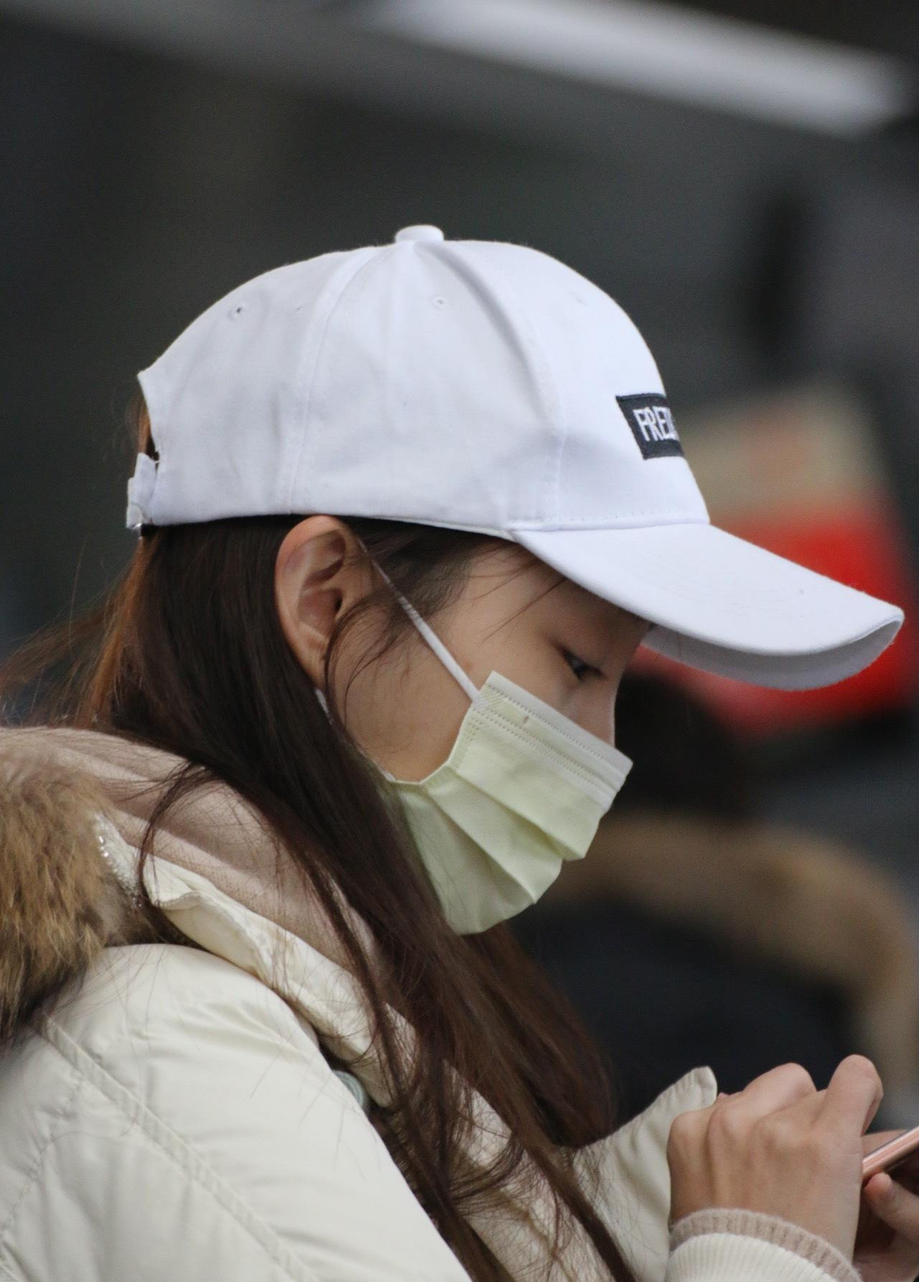OK: (259, 538, 640, 919)
